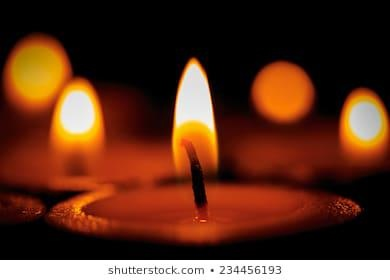fire: (170, 56, 219, 176), (336, 84, 389, 154)
